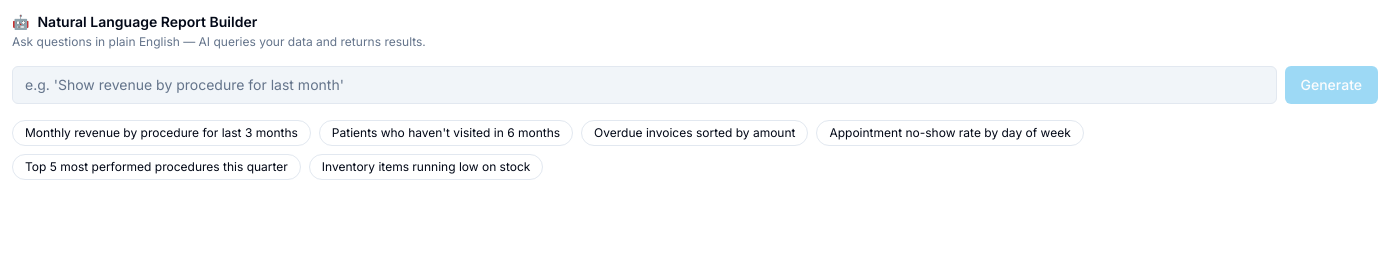
Test: ReportBuilder › shows empty state when query succeeds with no results
The width and height of the screenshot is (1390, 259).
Type "Show data" into the field with placeholder "e.g. 'Show revenue by procedure for last month'" at x=644, y=85, box x1=12 y1=66 x2=1276 y2=104
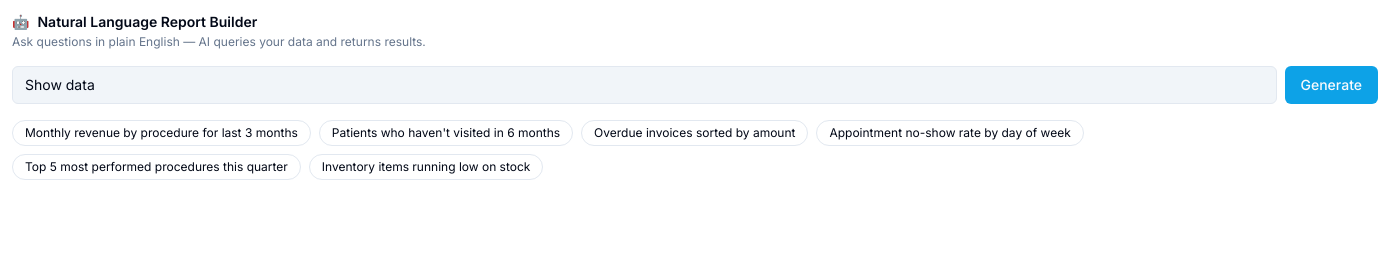
Click the button "Generate" at x=1331, y=85, box x1=1284 y1=66 x2=1378 y2=104
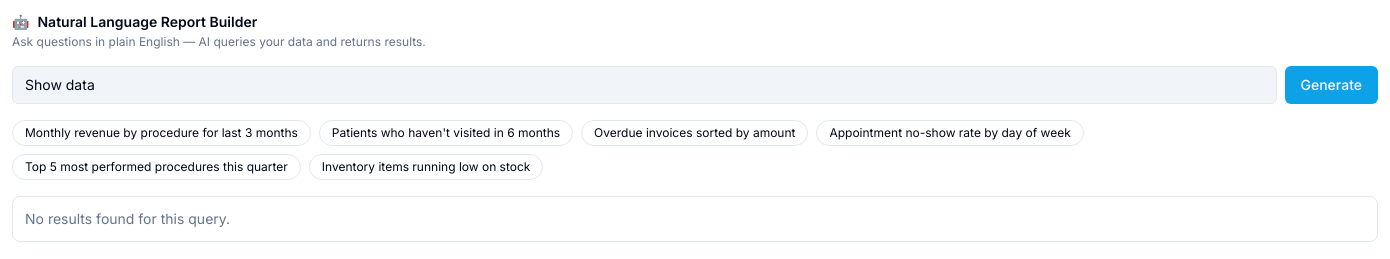
Expected: the text "No results found for this query." is shown, x1=25 y1=210 x2=230 y2=227
